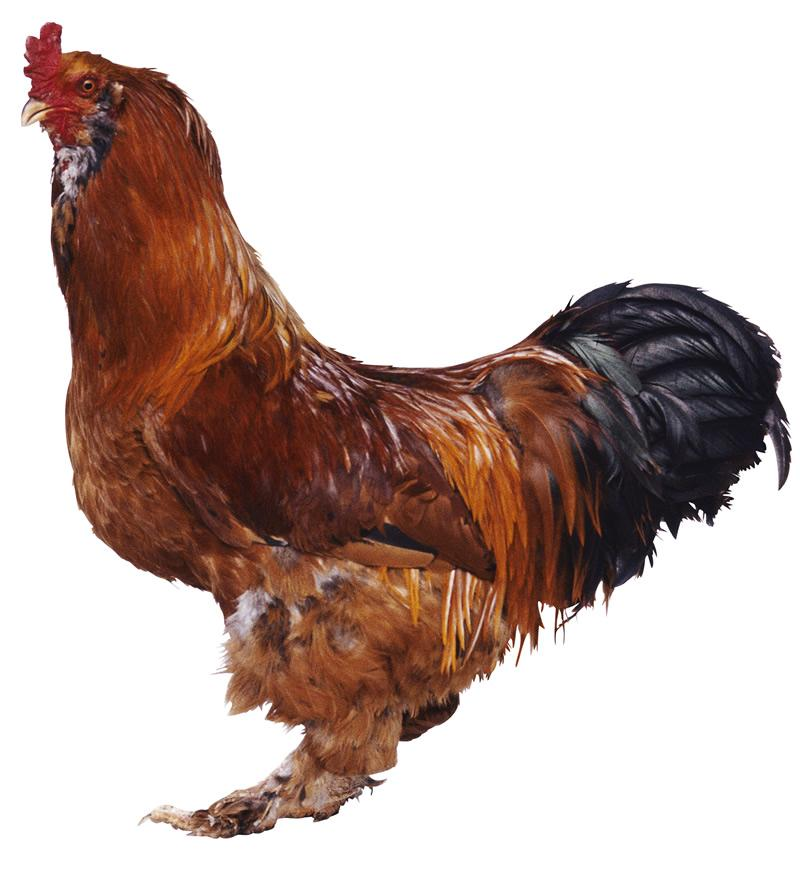chicken: (19, 16, 789, 849)
